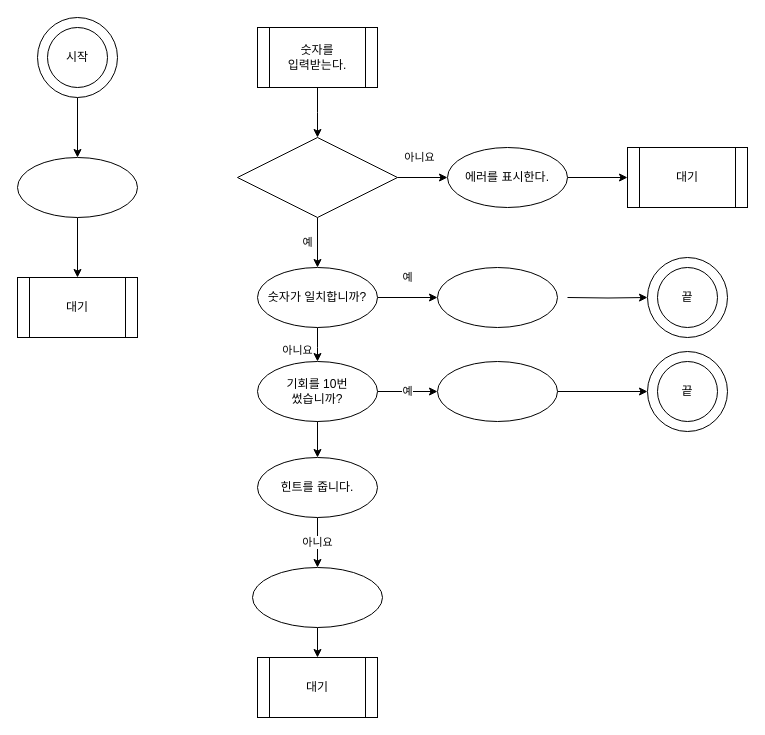
The diagram is 765 pixels wide and 735 high, and some of its shapes have lost their labels. Each missing label, with the centre of its shape:
숫자가 제대로 입력되었는지 확인한다.: the point at 317,177
숫자를 넣을 배열을 만듭니다.: the point at 77,187
시도횟수를 1회 늘린다.: the point at 317,597
졌다고 표시한다.: the point at 497,391
홈런을 출력합니다.: the point at 497,297
